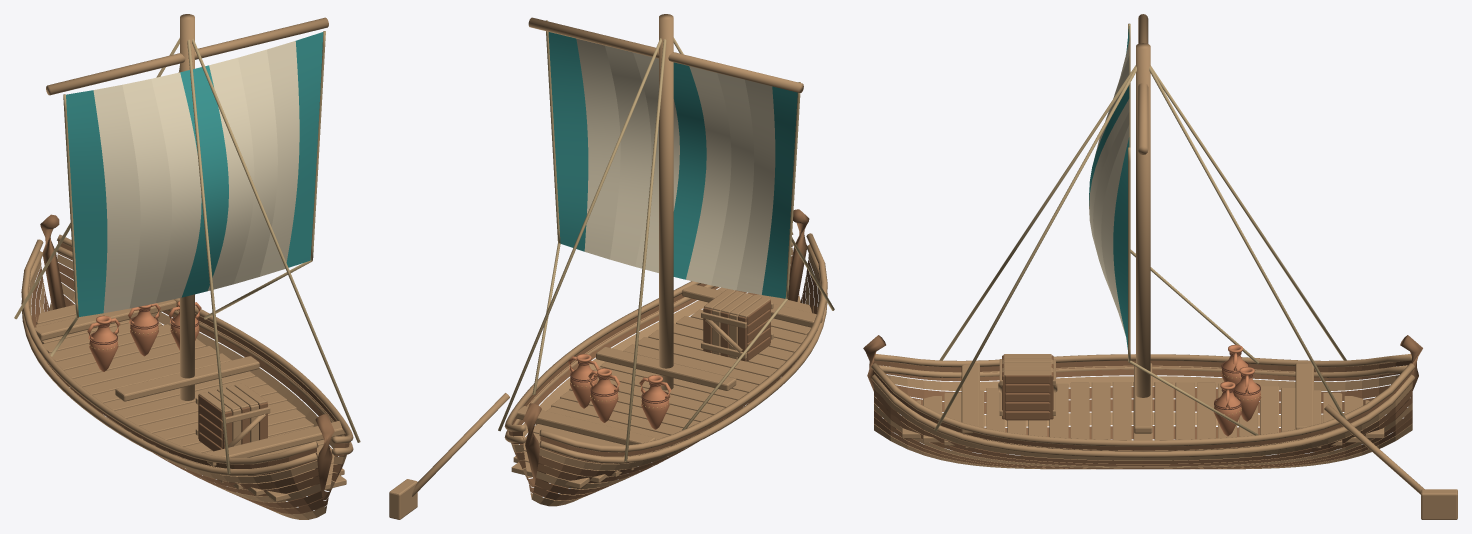
Rendered from merchant-ship.glb.
3 renders of one model, left to right at view 1: azimuth 30°, elevation 25°; view 2: azimuth 150°, elevation 25°; view 3: azimuth 270°, elevation 25°, orthographic. The views are drawn at different scales.
Visible parts, largest first — view 1: merchant-ship__woodlight, merchant-ship__linen, merchant-ship__teal, merchant-ship__wood, merchant-ship__rope, merchant-ship__clay; view 2: merchant-ship__woodlight, merchant-ship__linen, merchant-ship__teal, merchant-ship__wood, merchant-ship__rope, merchant-ship__clay; view 3: merchant-ship__woodlight, merchant-ship__wood, merchant-ship__rope, merchant-ship__linen, merchant-ship__teal, merchant-ship__clay.
Boxes of the visible parts, bbox=[...] form: merchant-ship__woodlight: bbox=[21, 14, 353, 519]; merchant-ship__linen: bbox=[93, 41, 299, 312]; merchant-ship__teal: bbox=[66, 32, 323, 316]; merchant-ship__wood: bbox=[31, 214, 349, 514]; merchant-ship__rope: bbox=[14, 31, 360, 474]; merchant-ship__clay: bbox=[87, 301, 201, 371]; merchant-ship__woodlight: bbox=[389, 14, 827, 519]; merchant-ship__linen: bbox=[576, 38, 775, 294]; merchant-ship__teal: bbox=[548, 32, 797, 298]; merchant-ship__wood: bbox=[508, 209, 817, 500]; merchant-ship__rope: bbox=[498, 20, 834, 461]; merchant-ship__clay: bbox=[568, 354, 671, 429]; merchant-ship__woodlight: bbox=[871, 14, 1457, 519]; merchant-ship__wood: bbox=[863, 335, 1422, 469]; merchant-ship__rope: bbox=[934, 23, 1346, 435]; merchant-ship__linen: bbox=[1089, 41, 1129, 334]; merchant-ship__teal: bbox=[1089, 26, 1129, 349]; merchant-ship__clay: bbox=[1213, 344, 1261, 436].
Bounding box in the file's own units: 4.06 × 6.07 × 7.73.
